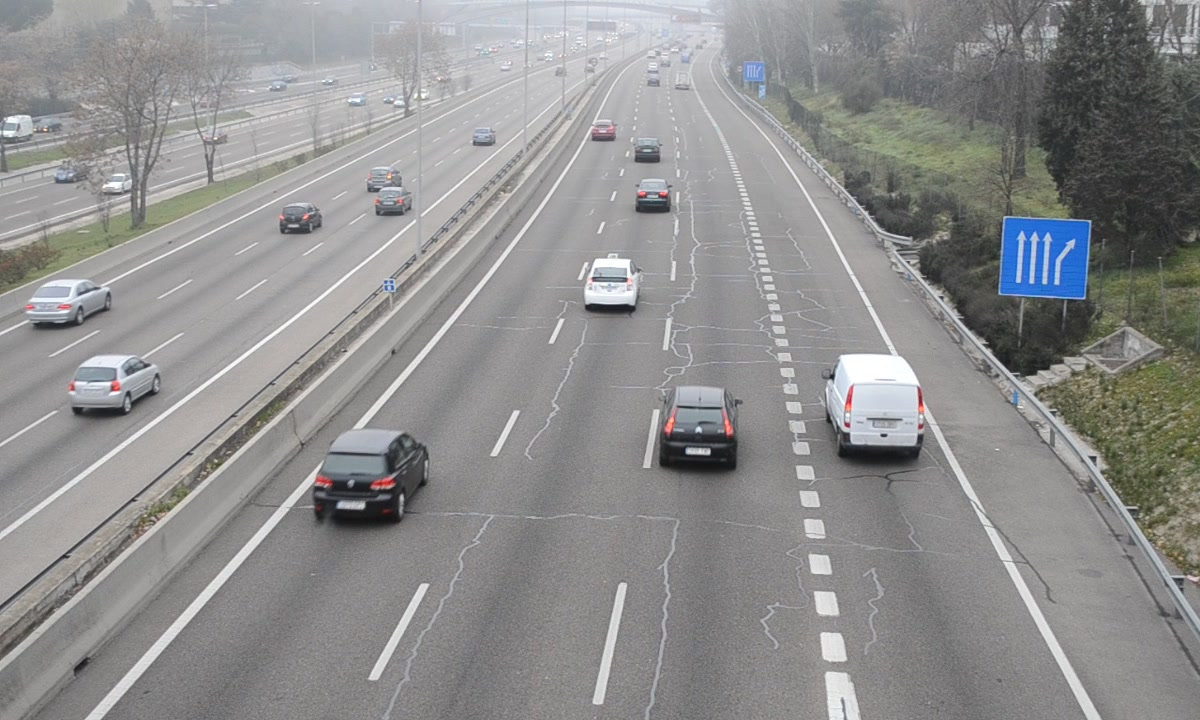car: (315, 430, 427, 515), (661, 386, 735, 465), (584, 258, 640, 308), (635, 177, 672, 214), (633, 134, 662, 165), (591, 118, 618, 142)
van: (828, 354, 924, 458)
